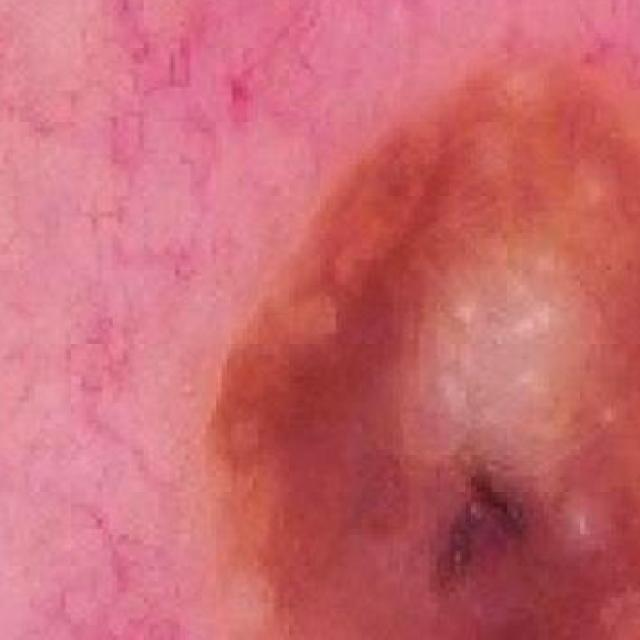BKL: (196, 53, 639, 640)
